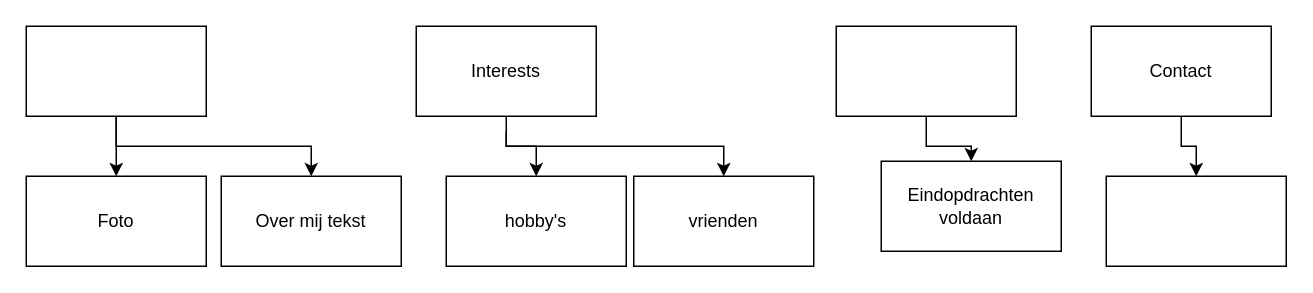
This 1313x293 diagram has some shape labels left out. The centre of each missing label's shape, as x and y in pixels:
About: point 115,70
Email/number: point 1195,220
Projects: point 925,70
